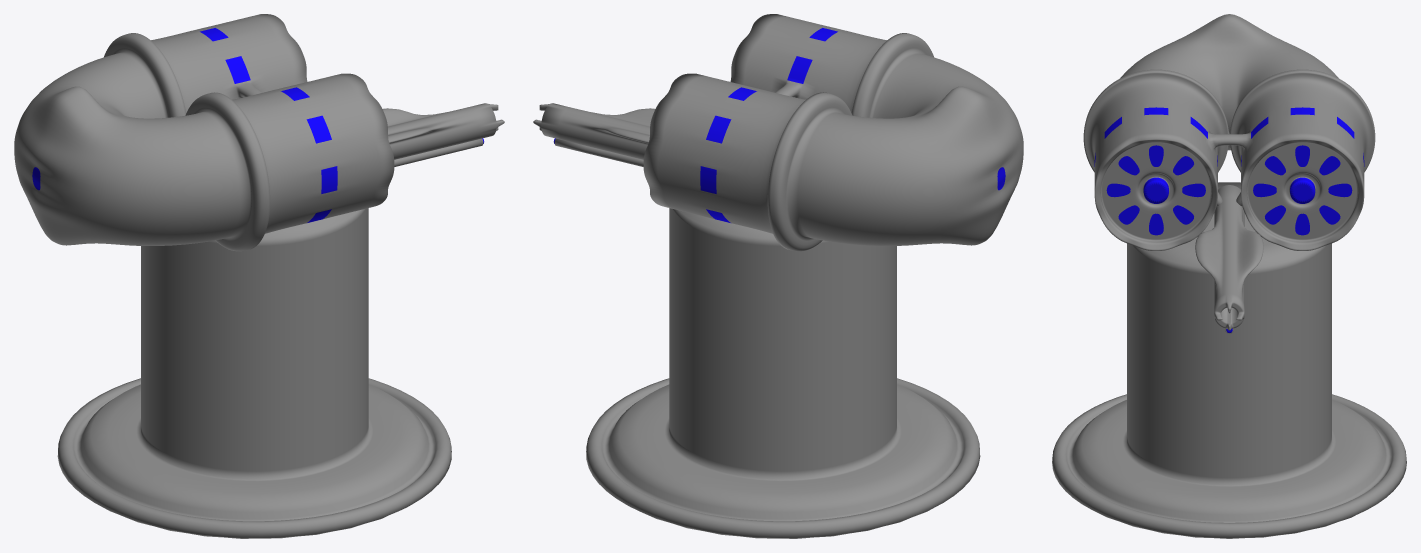
Rendered from Turret.fbx.
3 renders of one model, left to right at view 1: azimuth 30°, elevation 25°; view 2: azimuth 150°, elevation 25°; view 3: azimuth 270°, elevation 25°, orthographic. The views are drawn at different scales.
Visible parts, largest first — view 1: TurretBase, TurretGun; view 2: TurretBase, TurretGun; view 3: TurretBase, TurretGun.
Boxes of the visible parts, x1,y1,x2,y2 form: TurretBase: [57, 208, 451, 538]; TurretGun: [14, 14, 504, 251]; TurretBase: [586, 208, 980, 538]; TurretGun: [533, 14, 1023, 251]; TurretBase: [1052, 182, 1406, 538]; TurretGun: [1083, 14, 1375, 333].
Bounding box in the file's own units: 269 × 231 × 199.
